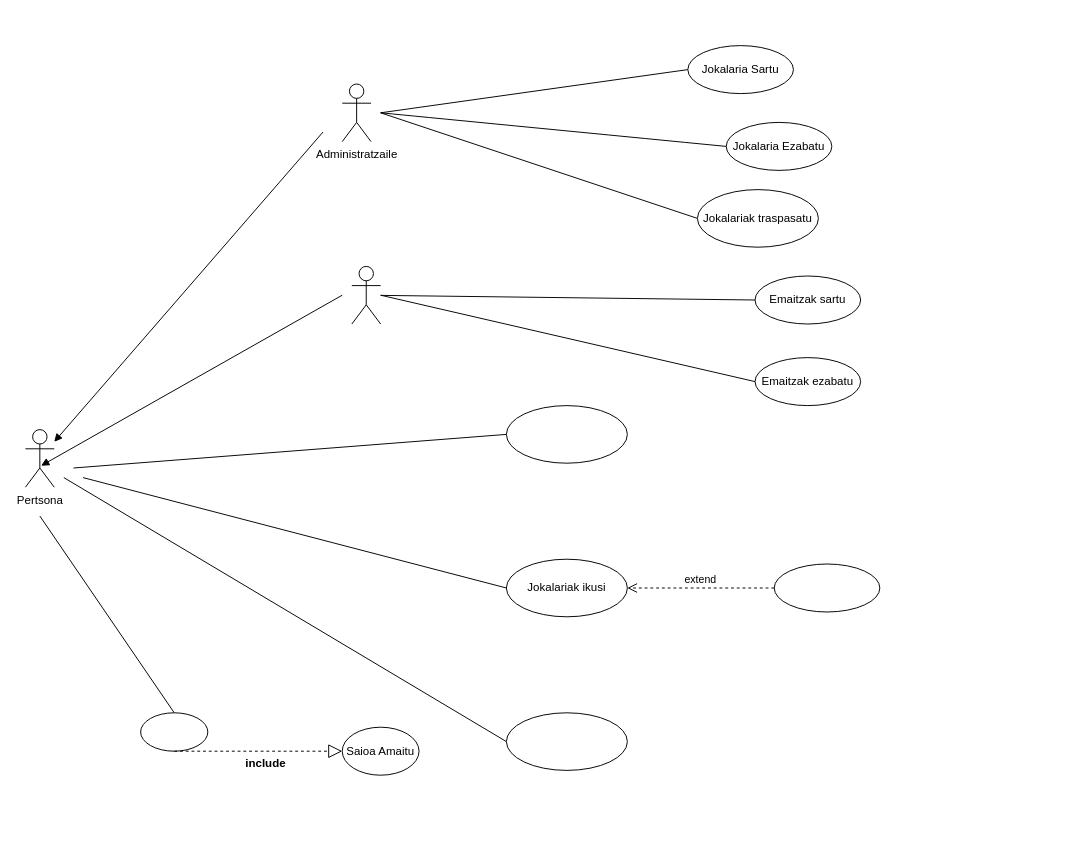
Image size: 1068x868. Some labels were removed from this diagram. The centre of each missing label's shape, as x and y in pixels:
"Arbitroa" goes at pixel 366 294.
"Log in" goes at pixel 174 731.
"Salkapena ikusi" goes at pixel 566 741.
"Taldeak ikusi" goes at pixel 566 434.
"Xml sortu" goes at pixel 826 587.
